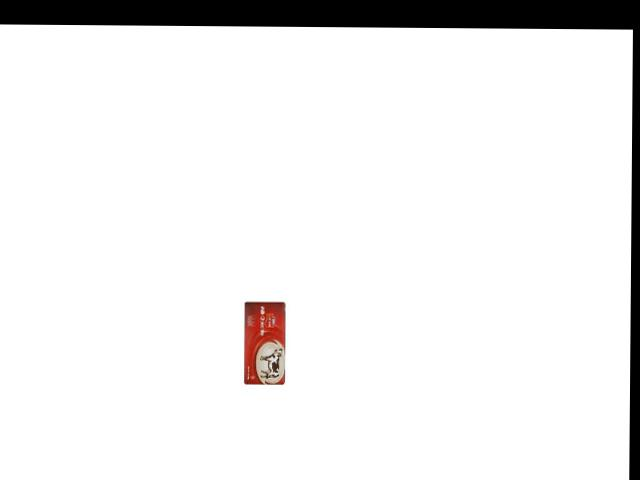chocolate: (241, 299, 285, 384)
